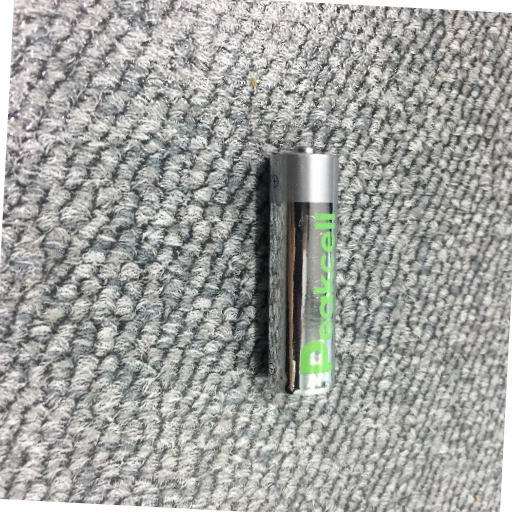Battery_0: (258, 134, 347, 404)
